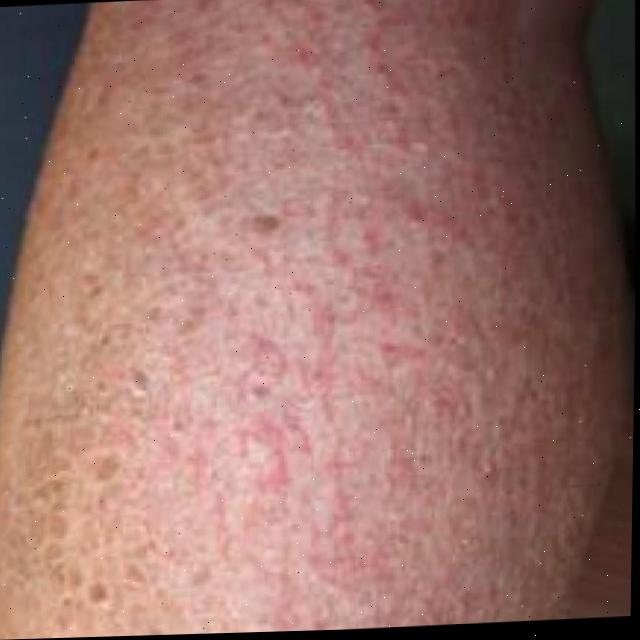Eczema: (0, 30, 587, 629)
